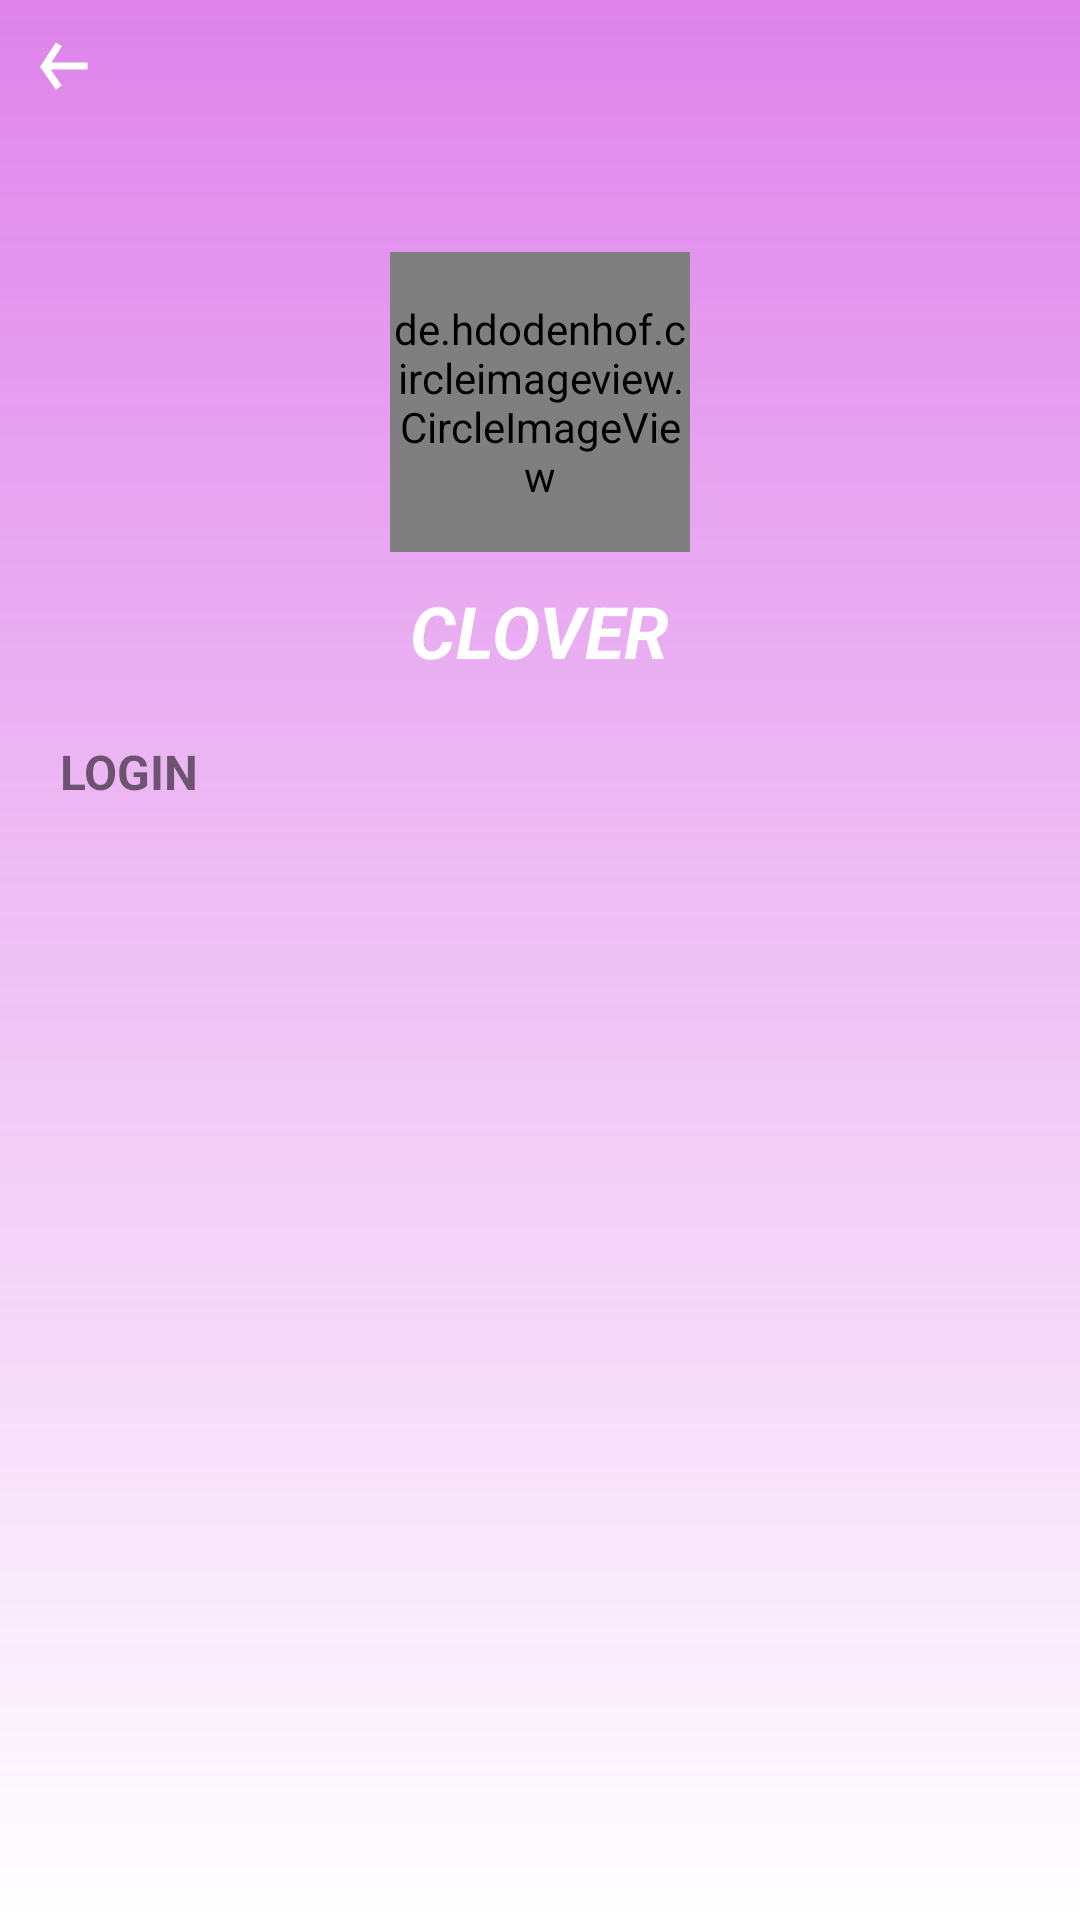

Icon click points for this 1080×1920 phone screenshot, format [x,y]:
back: [64,66]
